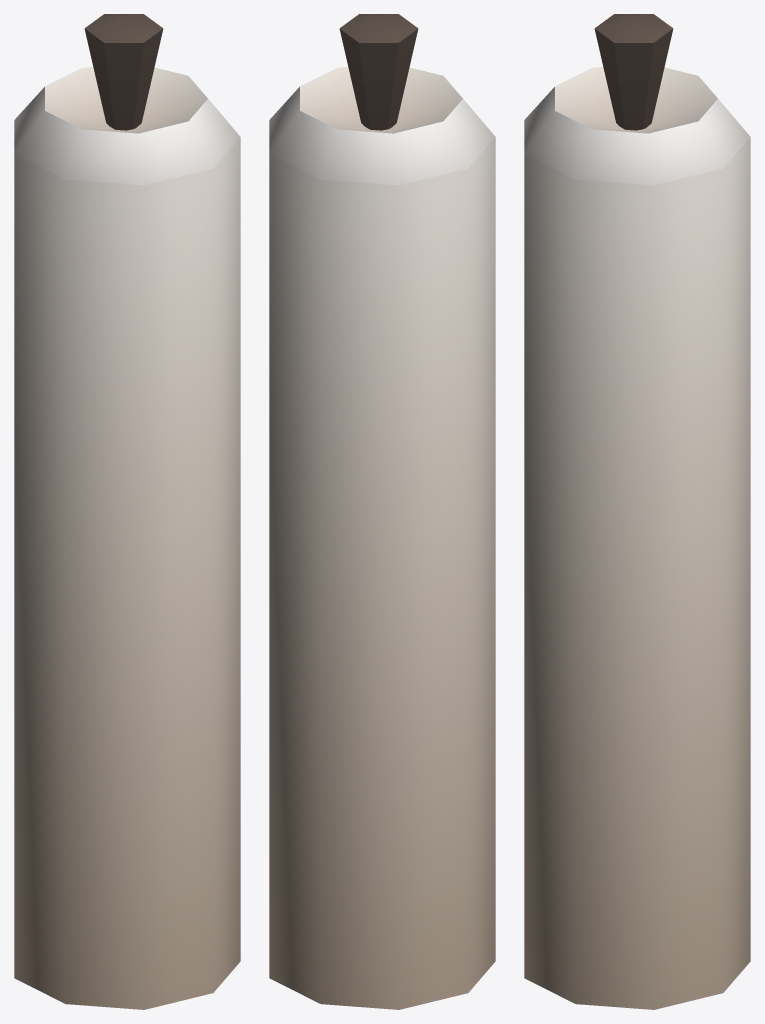
The model's file is candle_thin.gltf.
The picture shows the model from 3 angles, left to right: view 1: azimuth 30°, elevation 25°; view 2: azimuth 150°, elevation 25°; view 3: azimuth 270°, elevation 25°; orthographic projection.
Parts seen in each view (by area): view 1: candle_thin; view 2: candle_thin; view 3: candle_thin.
Part boxes in pixels (<box>): candle_thin: <box>14,14,240,1009</box>; candle_thin: <box>269,14,495,1009</box>; candle_thin: <box>524,14,750,1009</box>.
Bounding box in the file's own units: 0.1932 × 0.873 × 0.1903.
Materials: 1 (1 with a texture image).
